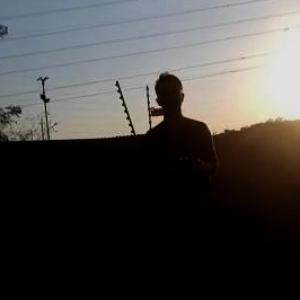follow: (141, 68, 226, 299)
